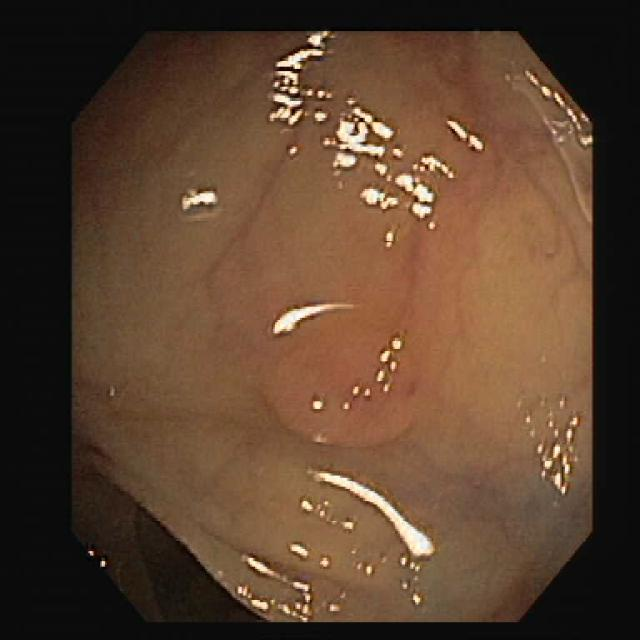tumor: (263, 302, 440, 447)
